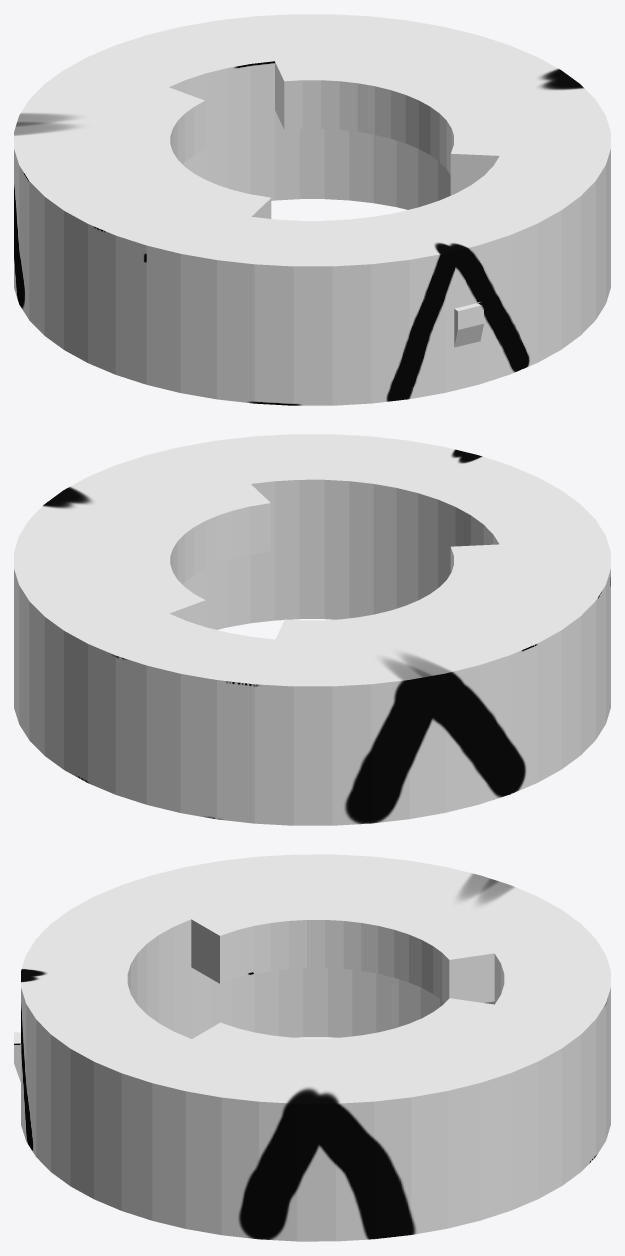
File: Tower3_basefi.fbx
3 renders of one model, top to bottom at view 1: azimuth 30°, elevation 25°; view 2: azimuth 150°, elevation 25°; view 3: azimuth 270°, elevation 25°, orthographic.
Visible parts, largest first — view 1: Tower3_P3x4; view 2: Tower3_P3x4; view 3: Tower3_P3x4.
Part boxes in pixels (left/top/right/bottom): Tower3_P3x4: left=14, top=14, right=610, bottom=405; Tower3_P3x4: left=14, top=434, right=610, bottom=825; Tower3_P3x4: left=14, top=854, right=610, bottom=1241.
Size of the model in its own units: 3939 by 1014 by 3986.
1 material, 1 textured.
